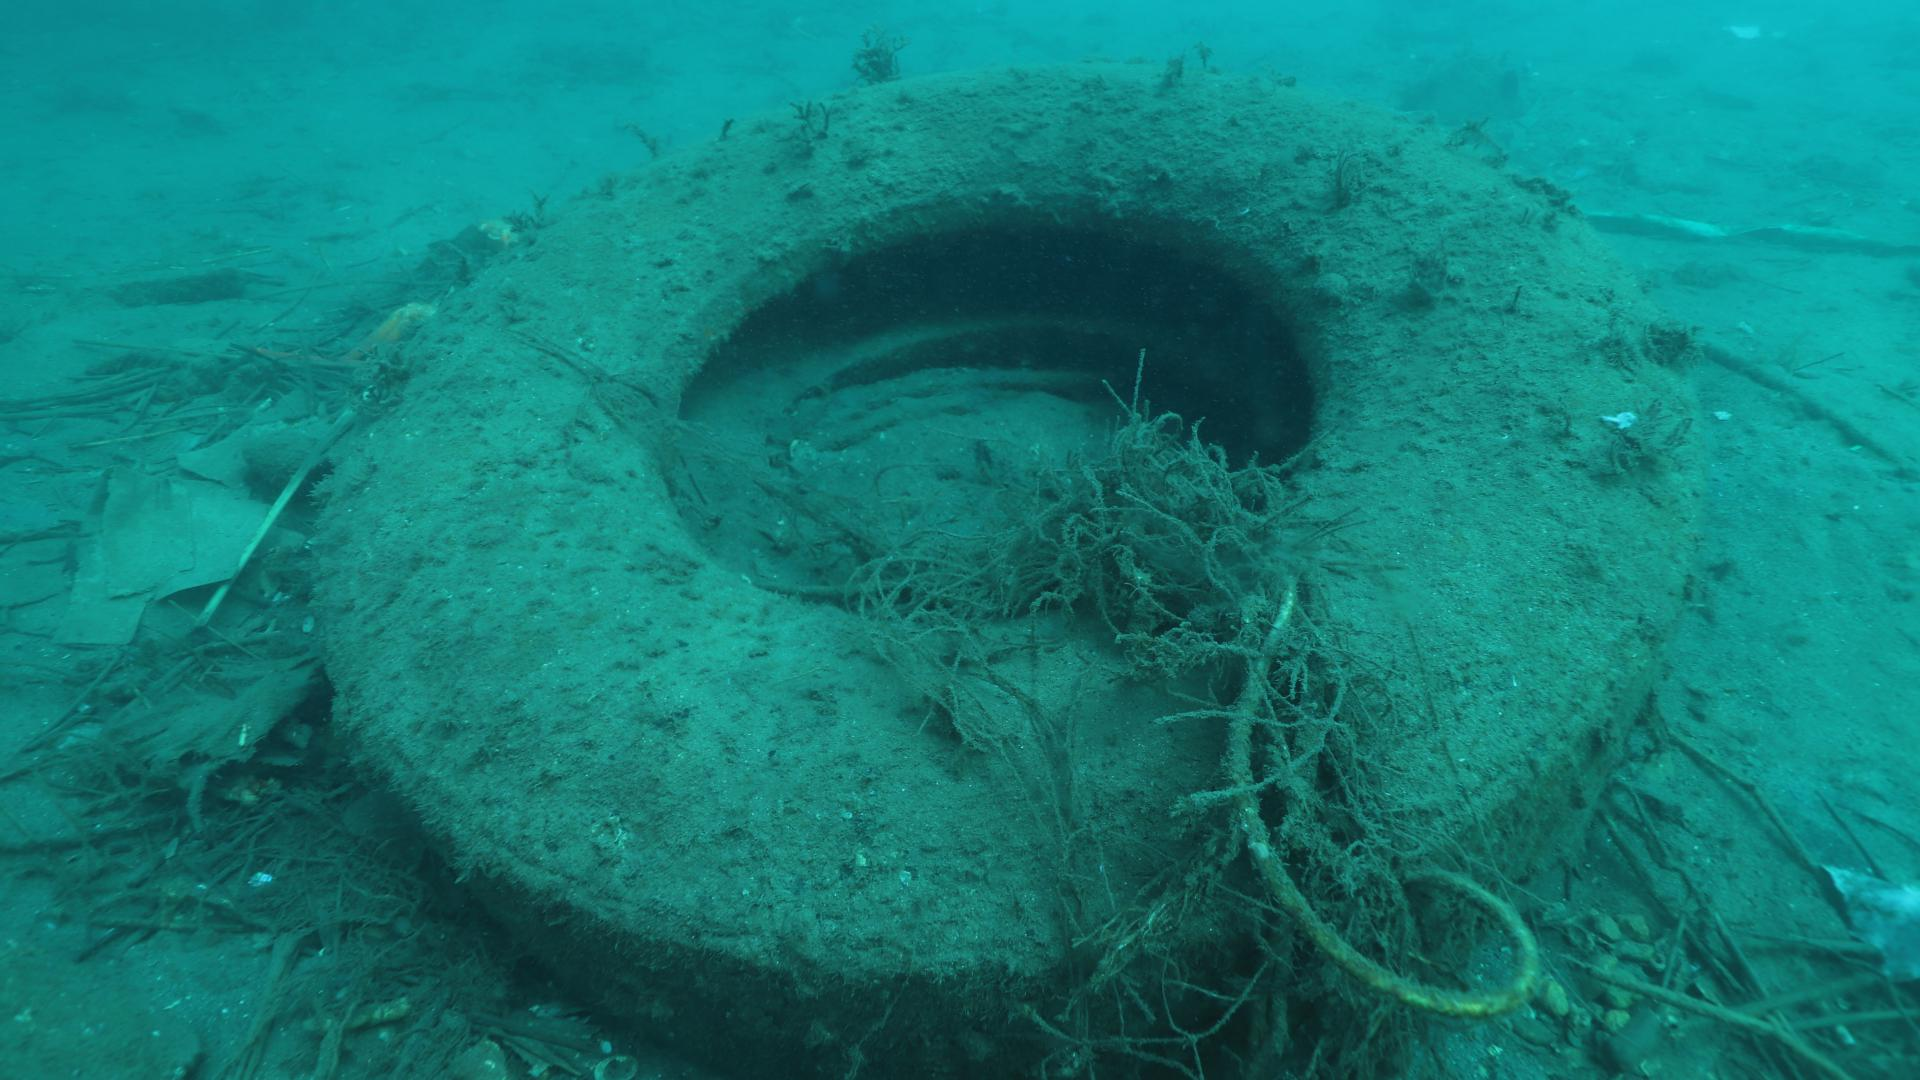tire: (309, 62, 1702, 1080)
